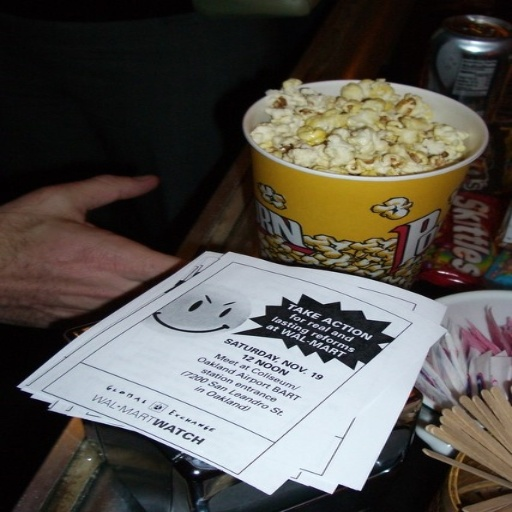hand: (2, 169, 178, 331)
